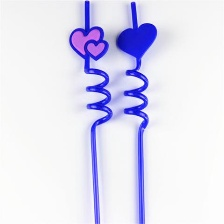drinking_straw: (64, 0, 116, 223), (112, 0, 161, 224)
